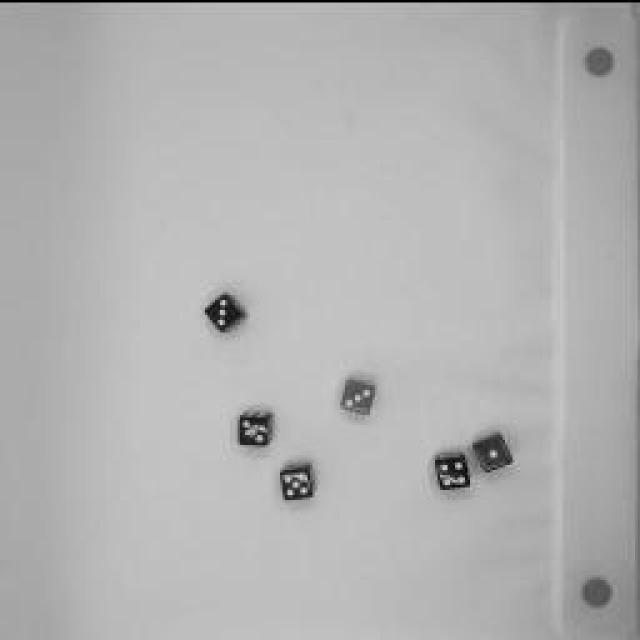dice_1: (468, 426, 520, 474)
dice_3: (195, 282, 253, 338), (232, 396, 282, 449), (332, 369, 382, 421)
dice_4: (430, 445, 475, 490)
dice_5: (274, 455, 321, 505)
